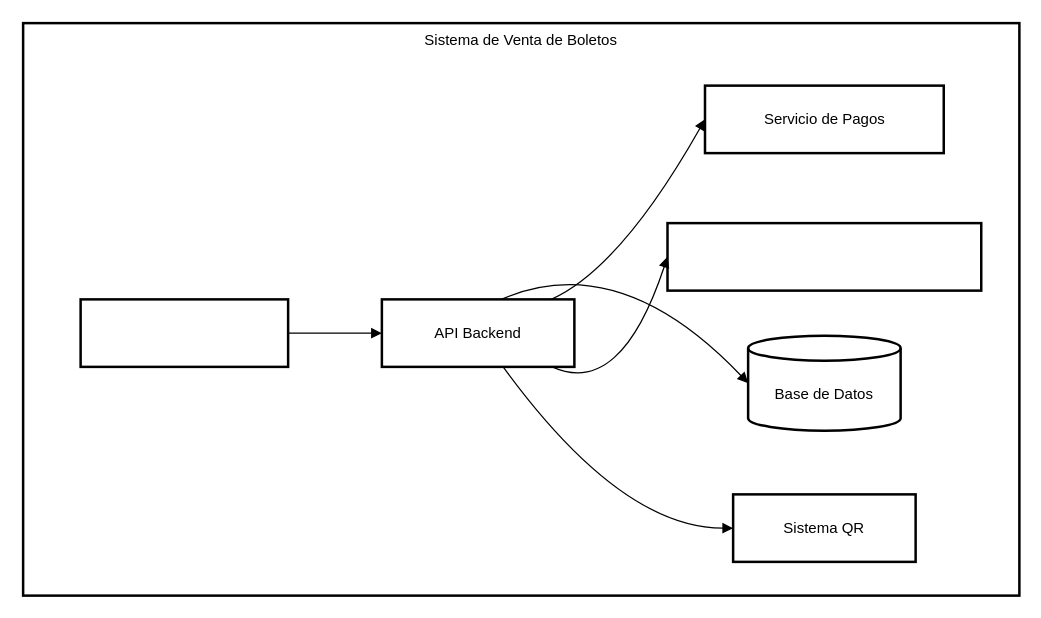
The diagram is 1041 pixels wide and 618 high, and some of its shapes have lost their labels. Each missing label, with the box of its shape:
Frontend Web: (79, 298, 289, 368)
Servicio de Notificaciones: (666, 221, 982, 291)
